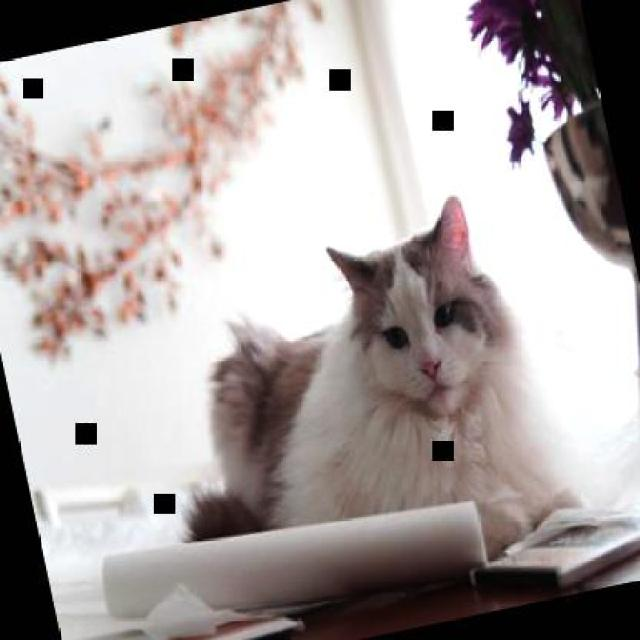cat: (127, 181, 591, 622)
